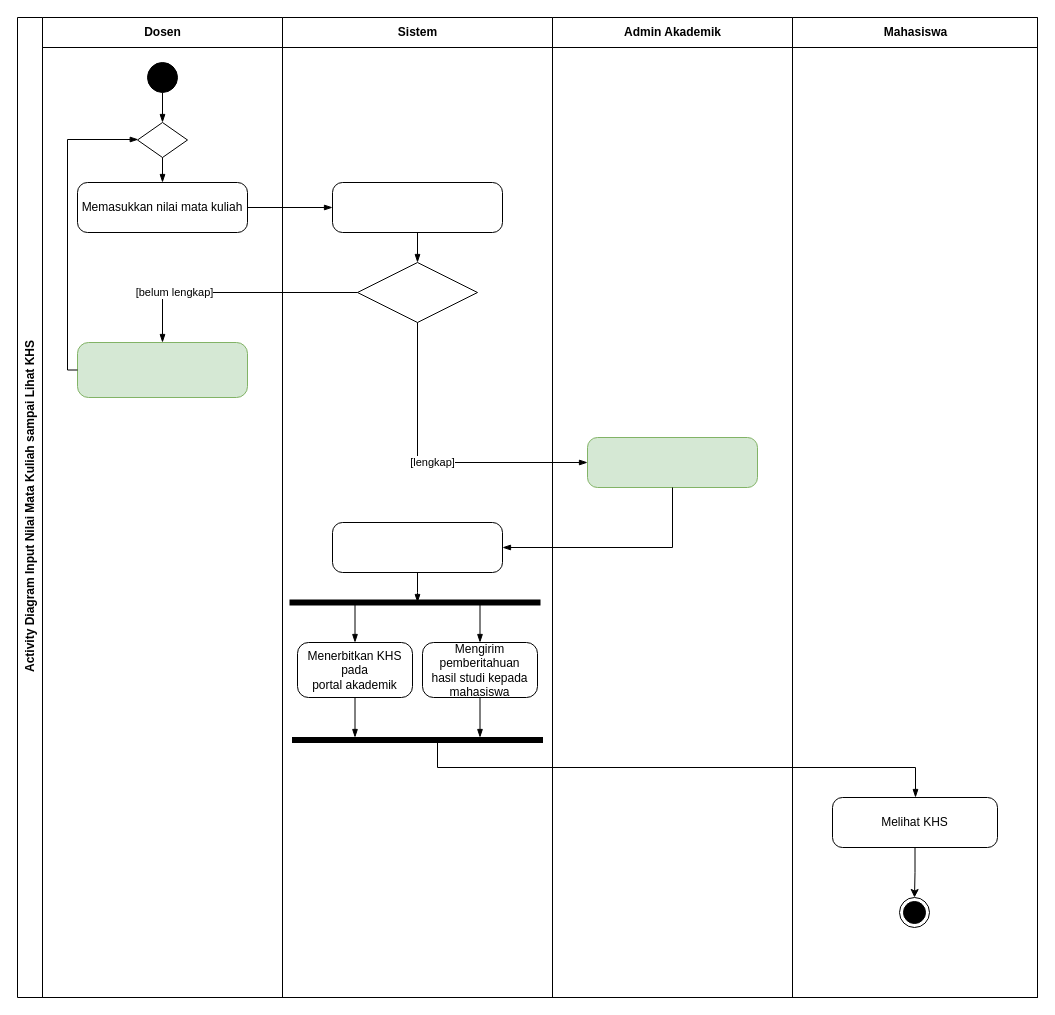
Some shapes in this 1055 by 1015 pixel diagram are drawn without their labels. The shapes that lost their labels are listed below. From the top down, each one's centre as x and y in pixels, then its label:
point (417, 207): Menyimpan nilai
point (417, 292): Nilai sudah lengkap?
point (162, 370): Melengkapi nilai mata kuliah yang belum lengkap
point (672, 462): Memeriksa dan mengesahkan nilai
point (417, 547): Menyiapkan publikasi hasil studi
